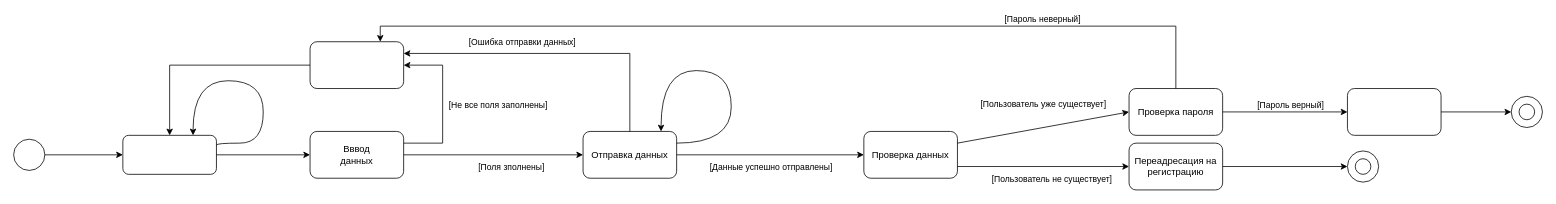
This 1556x204 diagram has some shape labels left out. The shapes that lost their labels are listed below. From the top down, each one's box as (x1, y1, x2, y2) in pixels, then its label:
(309, 41, 404, 89): Отображение ошибки
(1347, 88, 1441, 135): Перенаправление в личный кабинет
(122, 135, 216, 174): Загрузка страницы
